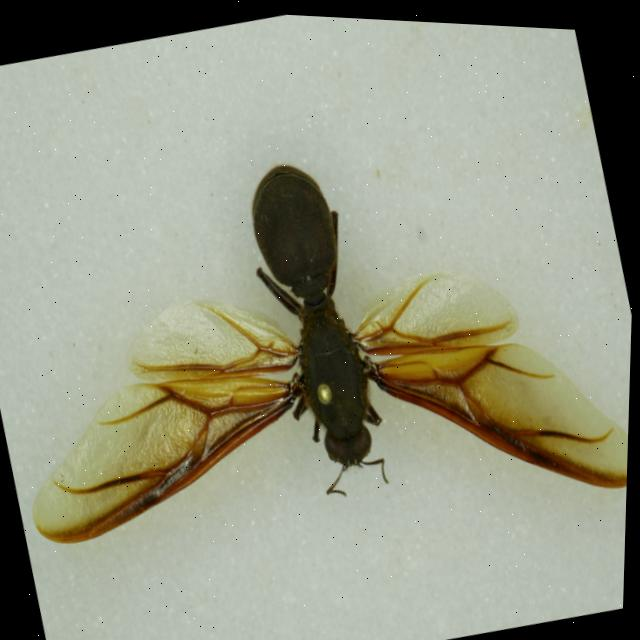Alive-Female-Alate: (0, 80, 638, 613)
